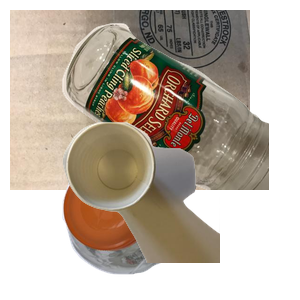cardboard: (10, 10, 250, 190)
glass: (60, 21, 300, 201)
plastic: (60, 152, 237, 300)
trash: (60, 120, 300, 300)
